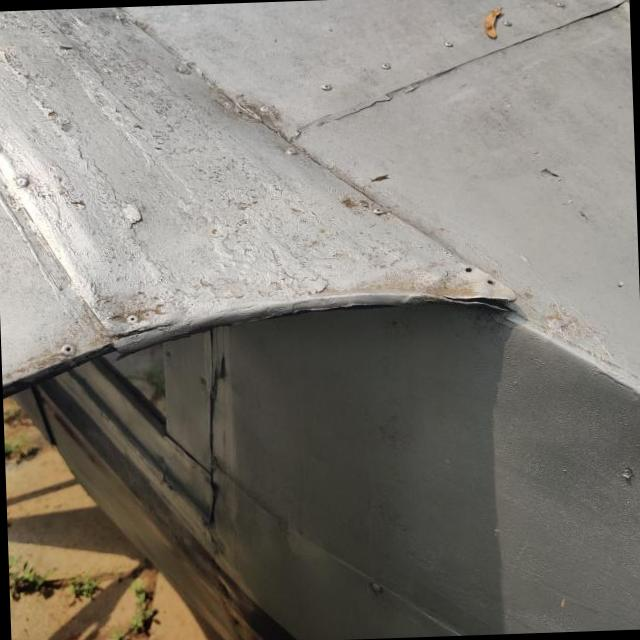Crack: (446, 288, 516, 312), (112, 321, 177, 343)
